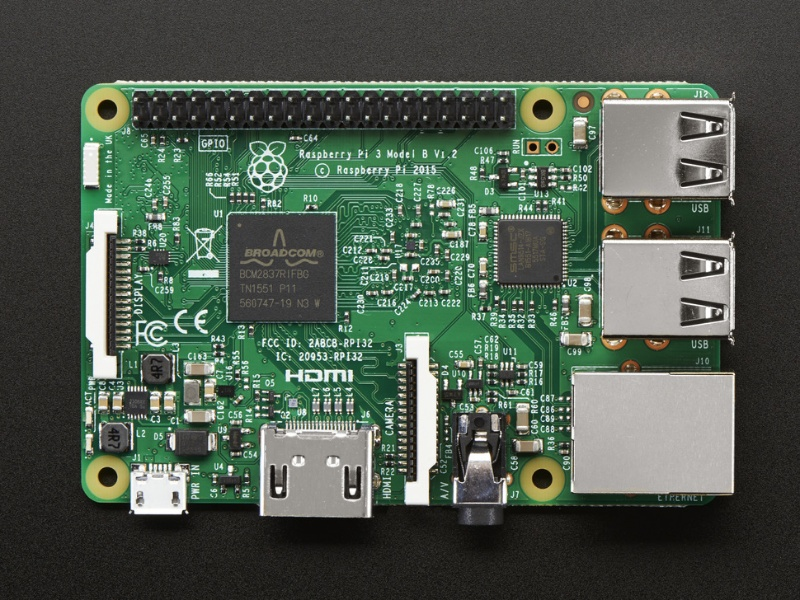raspberrypi: (72, 76, 741, 528)
